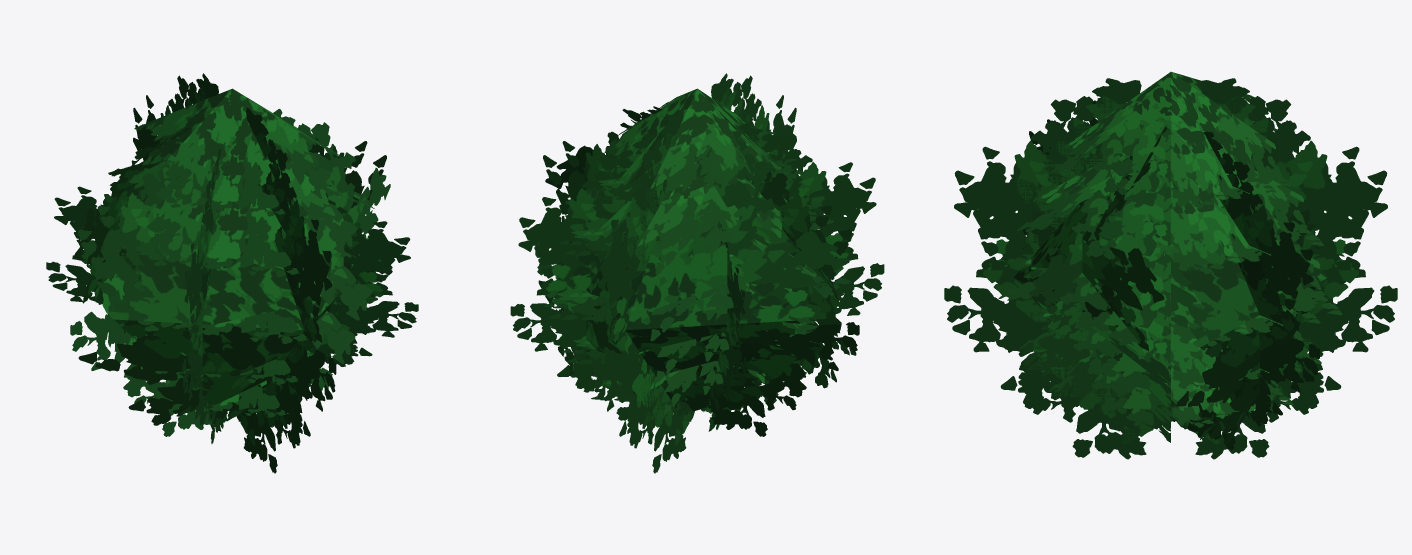
File: Bush.fbx
The picture shows the model from 3 angles, left to right: view 1: azimuth 30°, elevation 25°; view 2: azimuth 150°, elevation 25°; view 3: azimuth 270°, elevation 25°; orthographic projection. The views are drawn at different scales.
Visible parts, largest first — view 1: Plane.009, Plane.006, Plane.005, Plane, Plane.010, Plane.001, Plane.012, Plane.004, Plane.002, Plane.003, Plane.007, Plane.008 (+1 smaller); view 2: Plane.001, Plane.010, Plane.003, Plane.006, Plane.013, Plane, Plane.005, Plane.009, Plane.004, Plane.007, Plane.008, Plane.002 (+1 smaller); view 3: Plane, Plane.010, Plane.006, Plane.005, Plane.001, Plane.009, Plane.013, Plane.004, Plane.007, Plane.002, Plane.008, Plane.003 (+1 smaller).
Part boxes in pixels (x1,y1,x2,y2): Plane.009: (78, 109, 392, 427); Plane.006: (134, 88, 344, 216); Plane.005: (108, 160, 374, 276); Plane: (133, 81, 336, 473); Plane.010: (133, 73, 332, 445); Plane.001: (70, 128, 386, 436); Plane.012: (52, 183, 418, 386); Plane.004: (114, 229, 391, 343); Plane.002: (46, 169, 412, 364); Plane.003: (184, 146, 227, 425); Plane.007: (121, 275, 355, 384); Plane.008: (155, 350, 335, 417); Plane.001: (538, 130, 859, 436); Plane.010: (593, 82, 796, 473); Plane.003: (510, 126, 877, 420); Plane.006: (589, 88, 805, 213); Plane.013: (517, 122, 884, 403); Plane: (597, 73, 796, 445); Plane.005: (559, 148, 833, 274); Plane.009: (535, 106, 856, 408); Plane.004: (542, 228, 850, 341); Plane.007: (561, 283, 817, 382); Plane.008: (587, 350, 806, 414); Plane.002: (709, 224, 747, 410); Plane: (944, 78, 1389, 459); Plane.010: (952, 78, 1397, 459); Plane.006: (1045, 71, 1291, 208); Plane.005: (1017, 128, 1323, 273); Plane.001: (1171, 182, 1327, 445); Plane.009: (1014, 120, 1170, 442); Plane.013: (1022, 99, 1314, 423); Plane.004: (998, 219, 1344, 346); Plane.007: (1019, 252, 1321, 391); Plane.002: (1027, 184, 1317, 397); Plane.008: (1047, 351, 1293, 427); Plane.003: (1029, 117, 1319, 449).
Bounding box in the file's own units: 157 × 174 × 175.
1 material, 1 textured.
